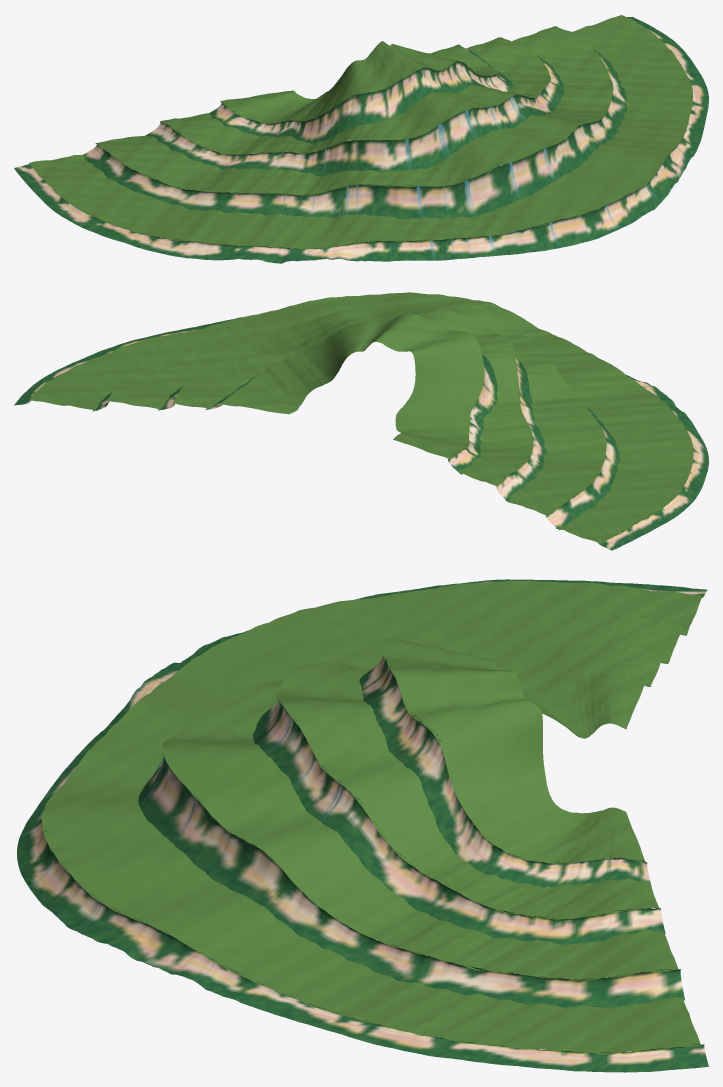
File: ZB_dunya_dereceler.glb
The picture shows the model from 3 angles, top to bottom: view 1: azimuth 30°, elevation 25°; view 2: azimuth 150°, elevation 25°; view 3: azimuth 270°, elevation 25°; orthographic projection. The views are drawn at different scales.
Visible parts, largest first — view 1: sekiler, duvarlar, selaleler; view 2: sekiler, duvarlar; view 3: sekiler, duvarlar, selaleler.
Boxes of the visible parts, x1,y1,x2,y2 form: sekiler: (29, 15, 692, 249); duvarlar: (14, 16, 708, 263); selaleler: (282, 96, 682, 256); sekiler: (29, 292, 693, 543); duvarlar: (14, 317, 708, 550); sekiler: (42, 580, 702, 1054); duvarlar: (17, 579, 708, 1072); selaleler: (24, 672, 343, 976).
Size of the model in its own units: 4031 by 593 by 2403.
